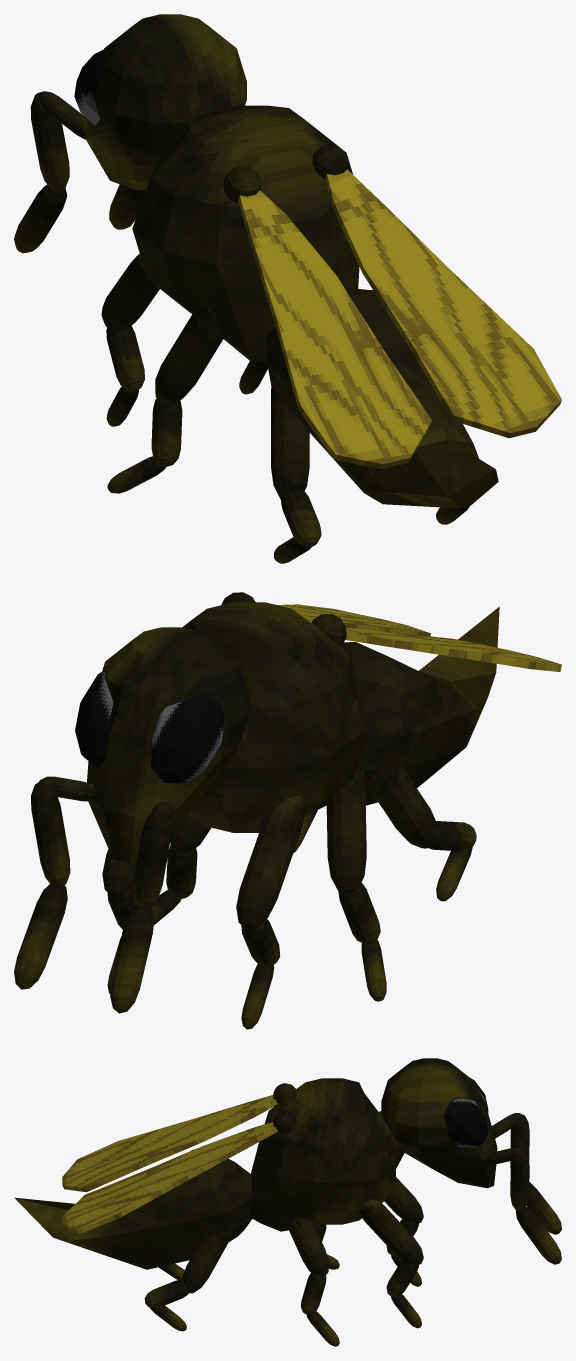
Rendered from TiphiaGround.obj.
The picture shows the model from 3 angles, top to bottom: view 1: azimuth 30°, elevation 25°; view 2: azimuth 150°, elevation 25°; view 3: azimuth 270°, elevation 25°; orthographic projection. The views are drawn at different scales.
Parts seen in each view (by area): view 1: sphere, Wing, cylinder, WingLimb; view 2: sphere, cylinder, Wing, WingLimb; view 3: sphere, cylinder, Wing, WingLimb.
Boxes of the visible parts, <box> form: sphere: <box>74,14,498,508</box>; Wing: <box>238,169,561,469</box>; cylinder: <box>14,91,469,563</box>; WingLimb: <box>223,144,348,203</box>; sphere: <box>75,602,499,863</box>; cylinder: <box>14,721,476,1029</box>; Wing: <box>277,604,561,671</box>; WingLimb: <box>221,592,346,646</box>; sphere: <box>14,1058,497,1269</box>; cylinder: <box>144,1111,561,1346</box>; Wing: <box>62,1095,277,1233</box>; WingLimb: <box>273,1083,296,1134</box>.
Bounding box in the file's own units: 0.4884 × 0.6952 × 1.4.
Materials: 1 (1 with a texture image).
